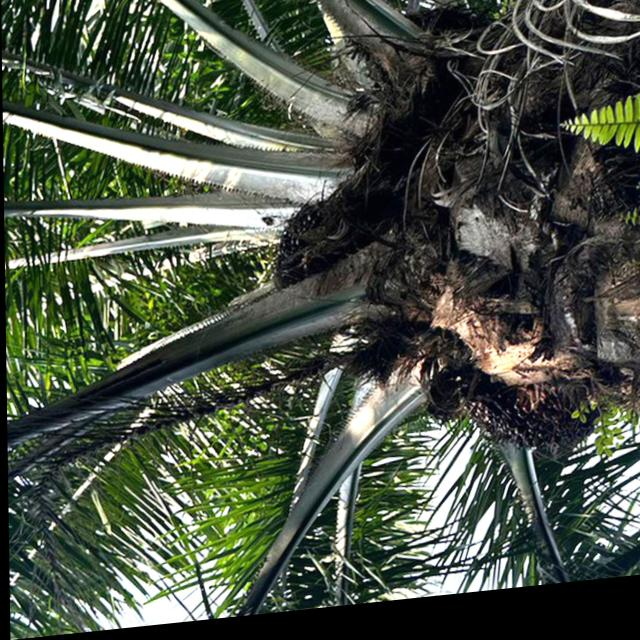unripe: (450, 374, 596, 486), (268, 201, 367, 311)
